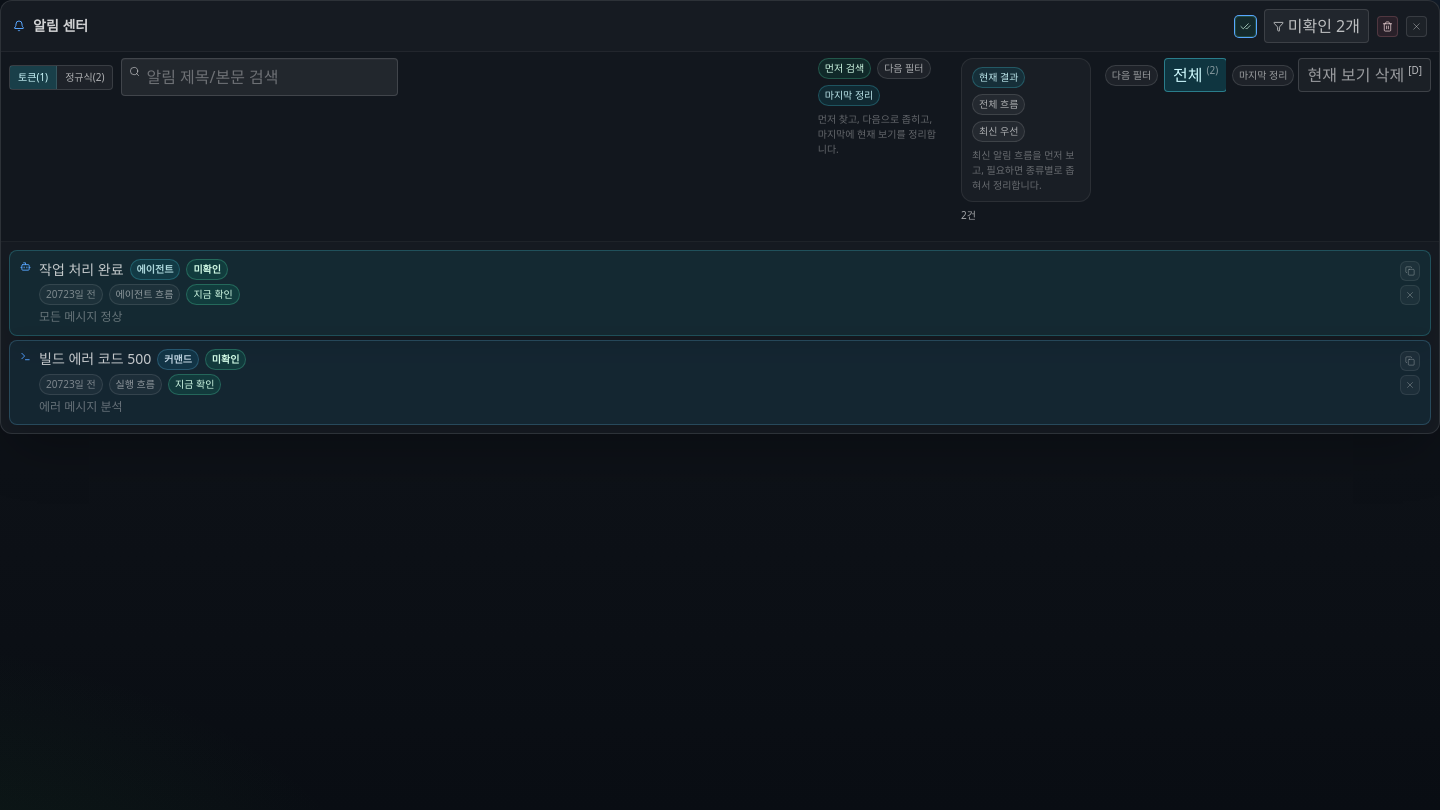
Scenario: NotificationCenter › 정규식 모드에서 /패턴/ 형태를 바로 사용할 수 있다
Click the button with aria-label "검색 모드: 정규식(2)". click: (85, 77)
box: [57,66,112,88]
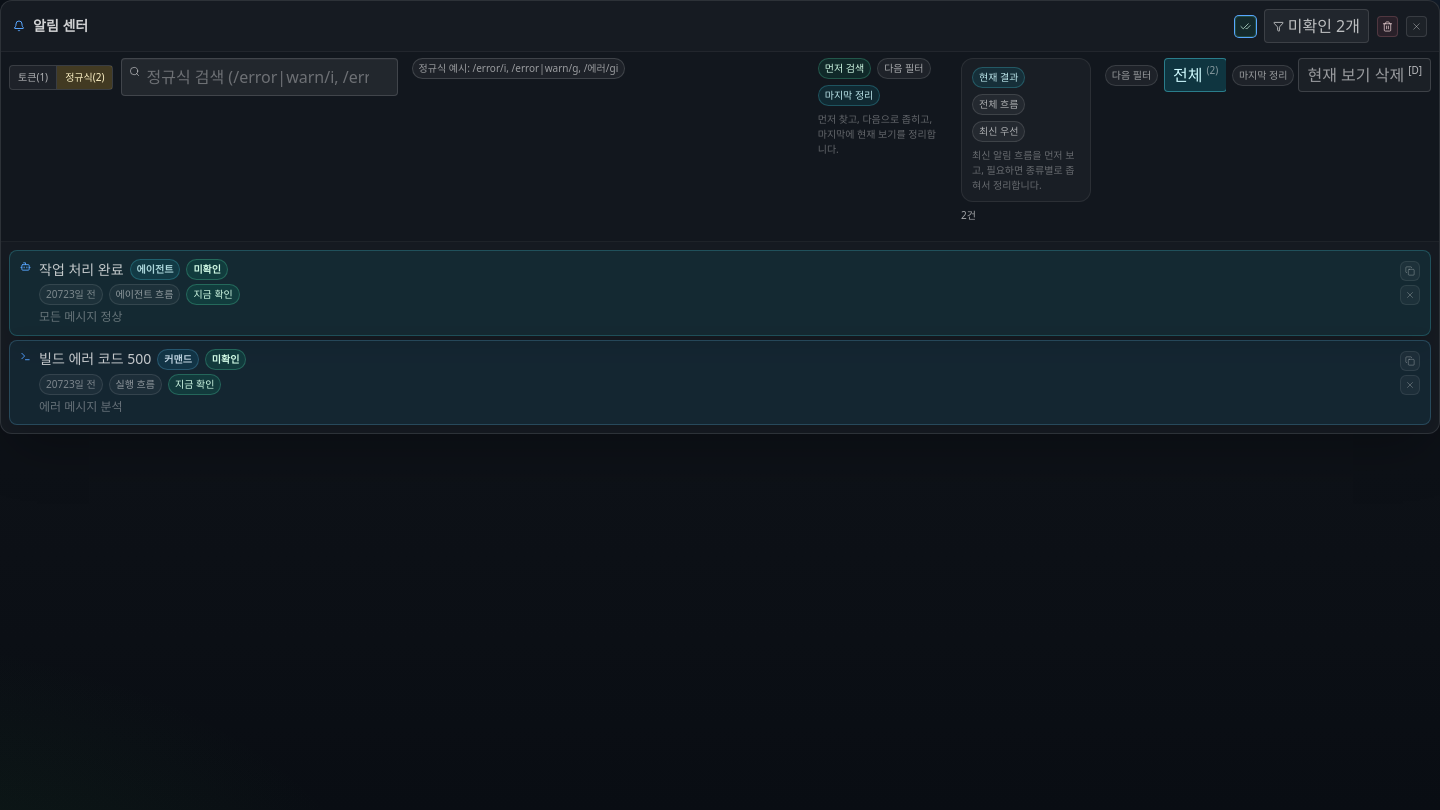
Type "/에러/" into the field named "알림 검색". click: (260, 77)
box: [122,58,398,96]
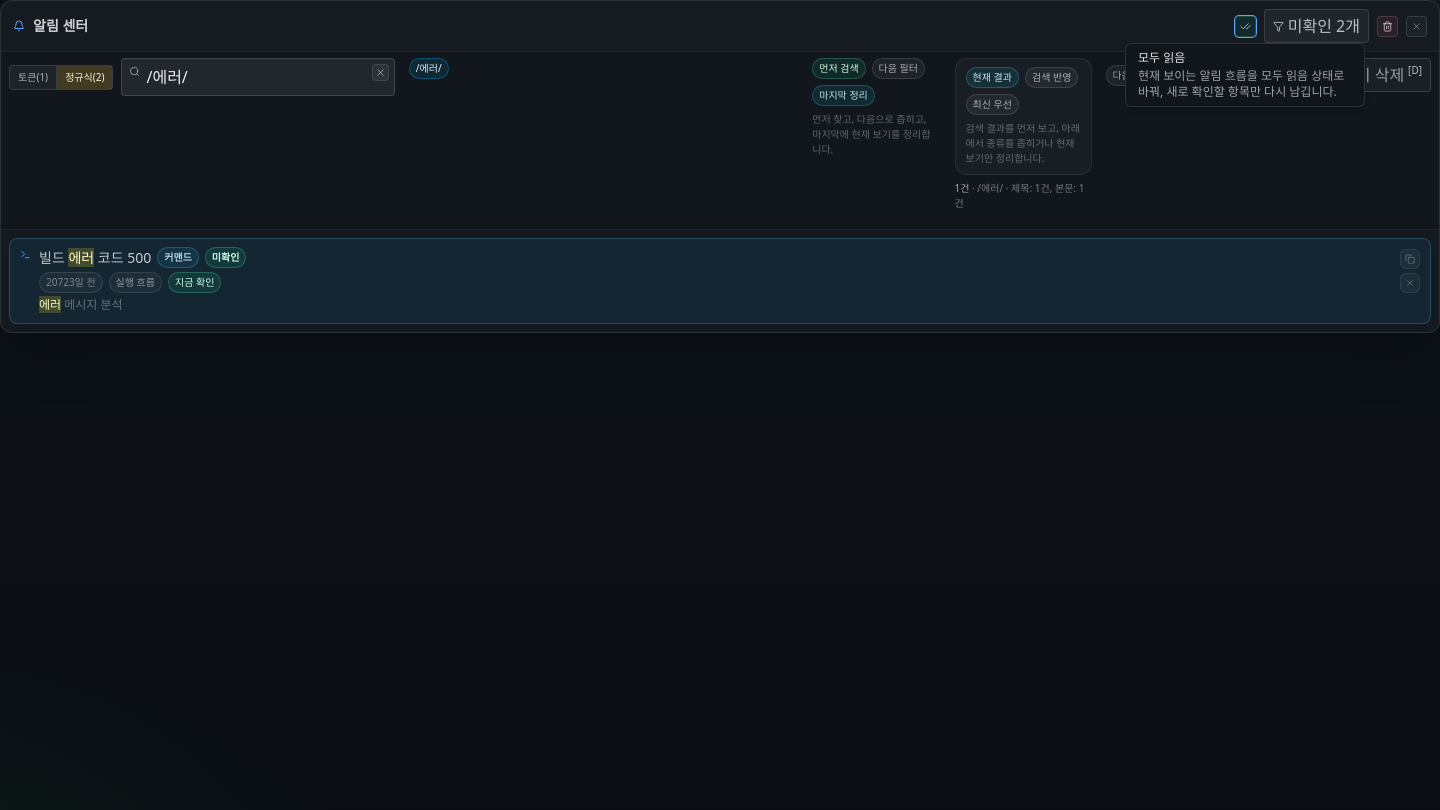
Expected: the message "빌드 에러 코드 500 커맨드 미확인 20723일 전 실행 흐름 지금 확인 에러 메시지 분석" is shown, [9,238,1431,324]
Result: the text "/에러/" is shown at [409,58,449,79]
